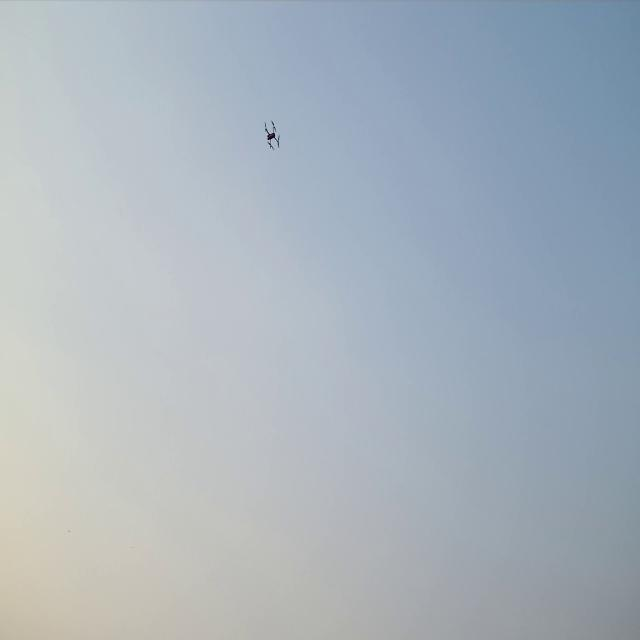UAV: (262, 118, 282, 150)
